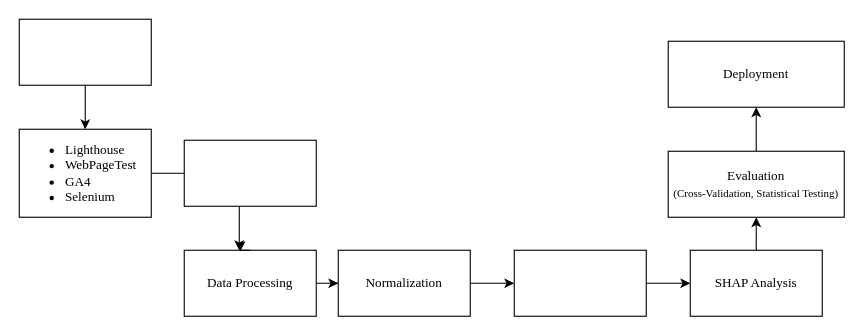
This 864x336 diagram has some shape labels left out. Each missing label, with the centre of its shape:
Data Collection (Features Metrics): the point at 84,51
Dataset: the point at 249,172
Model Training: the point at 579,282
